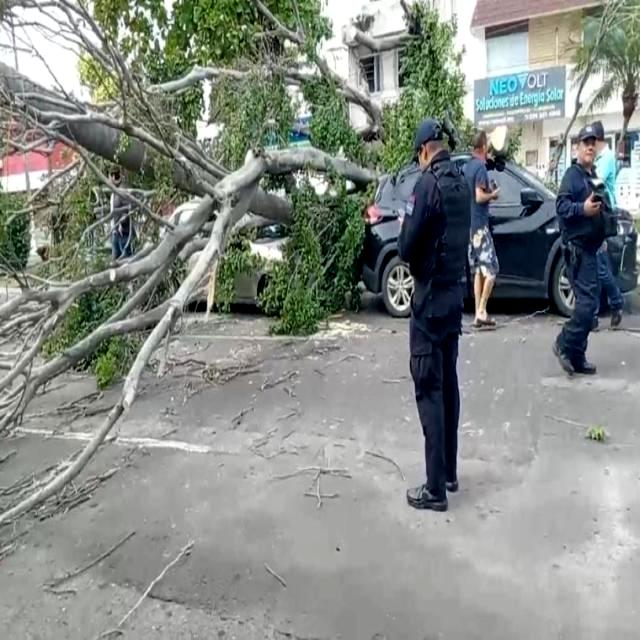Broken Pole: (1, 60, 295, 227)
